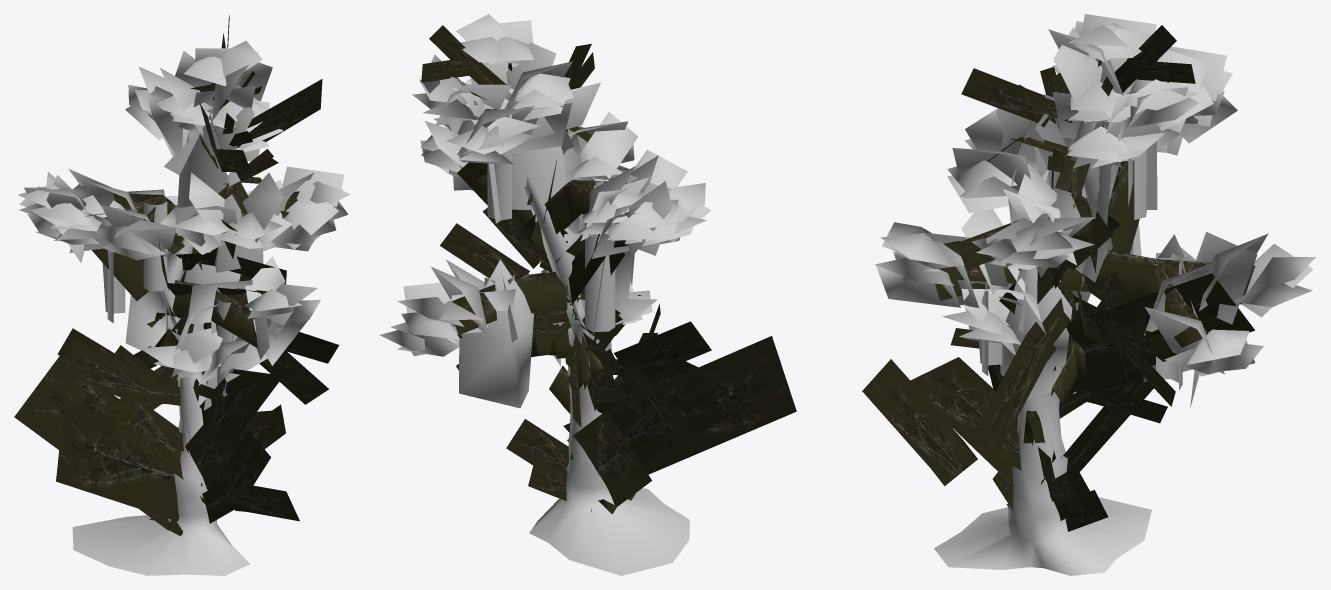
Rendered from tree1.FBX.
3 views of the same model, side by side, from view 1: azimuth 30°, elevation 25°; view 2: azimuth 150°, elevation 25°; view 3: azimuth 270°, elevation 25° (orthographic). The views are drawn at different scales.
Parts seen in each view (by area): view 1: Tree1; view 2: Tree1; view 3: Tree1.
Part boxes in pixels (x1,y1,x2,y2): Tree1: (14,15,350,575); Tree1: (379,14,796,575); Tree1: (862,14,1315,575).
Size of the model in its own units: 266 by 378 by 289.
